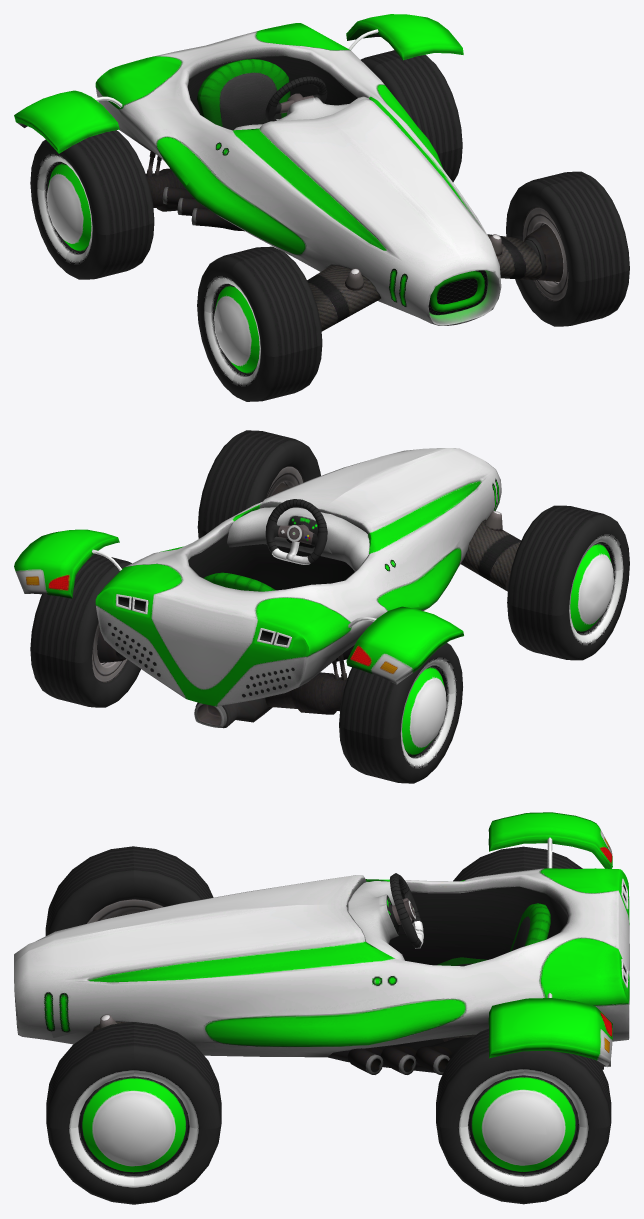
File: car.glb
3 renders of one model, top to bottom at view 1: azimuth 30°, elevation 25°; view 2: azimuth 150°, elevation 25°; view 3: azimuth 270°, elevation 25°, orthographic. The views are drawn at different scales.
Visible parts, largest first — view 1: mesh_id22, mesh_id47, mesh_id21, mesh_id43, mesh_id71, mesh_id53, mesh_id52, mesh_id41, mesh_id40, mesh_id54, mesh_id27, mesh_id6 (+9 smaller); view 2: mesh_id22, mesh_id47, mesh_id21, mesh_id71, mesh_id43, mesh_id41, mesh_id6, mesh_id40, mesh_id48, mesh_id27, mesh_id53, mesh_id39 (+4 smaller); view 3: mesh_id22, mesh_id43, mesh_id71, mesh_id47, mesh_id6, mesh_id55, mesh_id40, mesh_id56, mesh_id41, mesh_id48, mesh_id21, mesh_id52 (+3 smaller).
Part boxes in pixels (left/top/right/bottom): mesh_id22: left=95, top=23, right=501, bottom=325; mesh_id47: left=197, top=246, right=322, bottom=401; mesh_id21: left=30, top=130, right=154, bottom=279; mesh_id43: left=506, top=171, right=629, bottom=326; mesh_id71: left=360, top=50, right=462, bottom=182; mesh_id53: left=156, top=137, right=305, bottom=254; mesh_id52: left=197, top=59, right=290, bottom=130; mesh_id41: left=14, top=90, right=119, bottom=153; mesh_id40: left=346, top=14, right=463, bottom=60; mesh_id54: left=232, top=128, right=386, bottom=250; mesh_id27: left=307, top=265, right=380, bottom=331; mesh_id6: left=187, top=56, right=357, bottom=114; mesh_id22: left=95, top=448, right=501, bottom=706; mesh_id47: left=507, top=505, right=629, bottom=660; mesh_id21: left=339, top=643, right=462, bottom=783; mesh_id71: left=30, top=553, right=140, bottom=707; mesh_id43: left=197, top=430, right=320, bottom=538; mesh_id41: left=346, top=606, right=463, bottom=684; mesh_id6: left=188, top=524, right=354, bottom=590; mesh_id40: left=14, top=529, right=119, bottom=598; mesh_id48: left=227, top=507, right=369, bottom=571; mesh_id27: left=461, top=520, right=521, bottom=591; mesh_id53: left=377, top=547, right=461, bottom=610; mesh_id39: left=265, top=672, right=347, bottom=714; mesh_id22: left=14, top=868, right=629, bottom=1057; mesh_id43: left=46, top=1022, right=221, bottom=1204; mesh_id71: left=436, top=1028, right=611, bottom=1204; mesh_id47: left=45, top=846, right=213, bottom=935; mesh_id6: left=389, top=886, right=567, bottom=965; mesh_id55: left=205, top=999, right=465, bottom=1046; mesh_id40: left=488, top=998, right=612, bottom=1066; mesh_id56: left=88, top=941, right=394, bottom=982; mesh_id41: left=488, top=812, right=612, bottom=868; mesh_id48: left=348, top=881, right=404, bottom=960; mesh_id21: left=453, top=846, right=582, bottom=881; mesh_id52: left=437, top=903, right=550, bottom=966.
Size of the model in its own units: 0.512 by 0.2536 by 0.5756.
77 materials, 77 textured.
